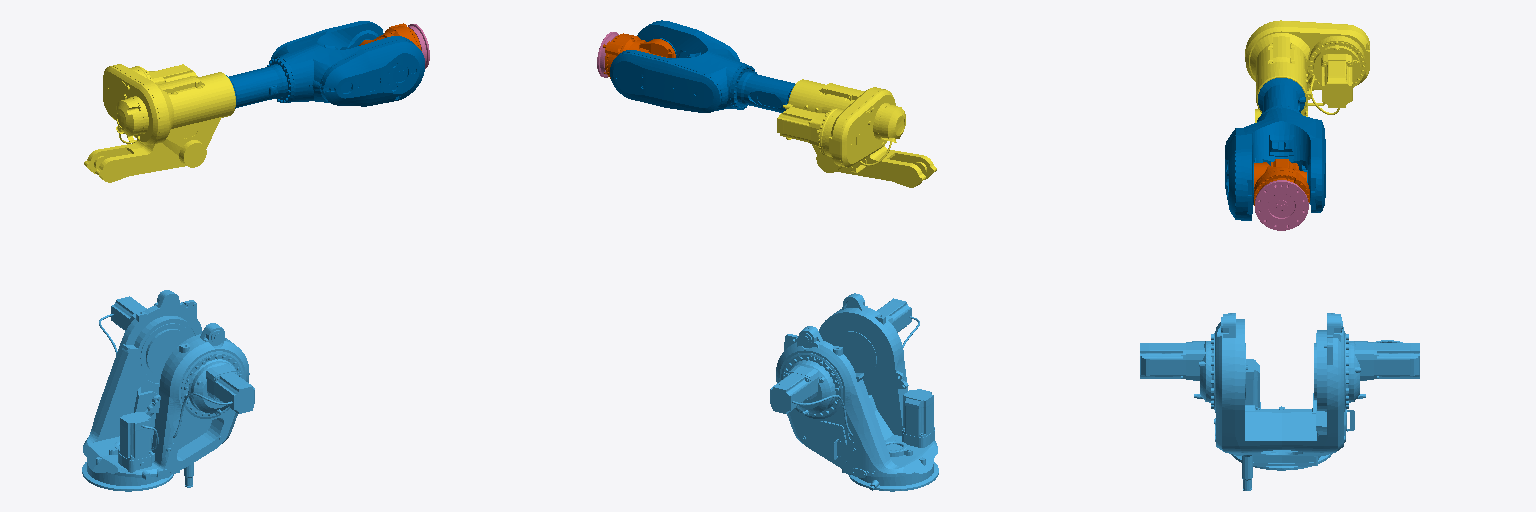
robot.urdf — IRB8700_800_350:
<?xml version="1.0" ?>
<robot name="IRB8700_800_350">

<link name="base_link">
  <inertial>
    <origin xyz="-0.08037184969585716 0.0006300808261457967 0.15332267644640482" rpy="0 0 0"/>
    <mass value="1505.6521038393914"/>
    <inertia ixx="76.523178" iyy="124.443069" izz="174.383681" ixy="0.159184" iyz="-0.066316" ixz="-5.164151"/>
  </inertial>
  <visual>
    <origin xyz="0 0 0" rpy="0 0 0"/>
    <geometry>
      <mesh filename="meshes/base_link.stl" scale="0.001 0.001 0.001"/>
    </geometry>
  </visual>
  <collision>
    <origin xyz="0 0 0" rpy="0 0 0"/>
    <geometry>
      <mesh filename="meshes/base_link.stl" scale="0.001 0.001 0.001"/>
    </geometry>
  </collision>
</link>

<link name="link_1">
  <inertial>
    <origin xyz="0.30364505280838955 -0.0018357799370513142 0.5157165485900264" rpy="0 0 0"/>
    <mass value="1785.9186850506833"/>
    <inertia ixx="319.960777" iyy="204.24516" izz="276.794643" ixy="0.482677" iyz="6.821785" ixz="-58.562622"/>
  </inertial>
  <visual>
    <origin xyz="0.0 -0.0 -0.300337" rpy="0 0 0"/>
    <geometry>
      <mesh filename="meshes/link_1.stl" scale="0.001 0.001 0.001"/>
    </geometry>
  </visual>
  <collision>
    <origin xyz="0.0 -0.0 -0.300337" rpy="0 0 0"/>
    <geometry>
      <mesh filename="meshes/link_1.stl" scale="0.001 0.001 0.001"/>
    </geometry>
  </collision>
</link>

<link name="link_2">
  <inertial>
    <origin xyz="0.1193738222891802 0.2222896100229376 0.7303852208694914" rpy="0 0 0"/>
    <mass value="1443.4541146557397"/>
    <inertia ixx="283.515678" iyy="273.52004" izz="40.693426" ixy="0.50972" iyz="10.053071" ixz="15.357031"/>
  </inertial>
  <visual>
    <origin xyz="-0.42 0.21 -1.0" rpy="0 0 0"/>
    <geometry>
      <mesh filename="meshes/link_2.stl" scale="0.001 0.001 0.001"/>
    </geometry>
  </visual>
  <collision>
    <origin xyz="-0.42 0.21 -1.0" rpy="0 0 0"/>
    <geometry>
      <mesh filename="meshes/link_2.stl" scale="0.001 0.001 0.001"/>
    </geometry>
  </collision>
</link>

<link name="link_3">
  <inertial>
    <origin xyz="-0.13074491407877226 0.4619189297387206 0.23397324999694247" rpy="0 0 0"/>
    <mass value="867.5203145831158"/>
    <inertia ixx="45.096822" iyy="53.006314" izz="58.494954" ixy="1.118886" iyz="-6.435807" ixz="-1.22999"/>
  </inertial>
  <visual>
    <origin xyz="-0.42 0.363 -2.58" rpy="0 0 0"/>
    <geometry>
      <mesh filename="meshes/link_3.stl" scale="0.001 0.001 0.001"/>
    </geometry>
  </visual>
  <collision>
    <origin xyz="-0.42 0.363 -2.58" rpy="0 0 0"/>
    <geometry>
      <mesh filename="meshes/link_3.stl" scale="0.001 0.001 0.001"/>
    </geometry>
  </collision>
</link>

<link name="link_4">
  <inertial>
    <origin xyz="0.6024871706759326 -0.030081371080166425 2.0651999724119463e-05" rpy="0 0 0"/>
    <mass value="1084.7317720031733"/>
    <inertia ixx="34.925547" iyy="224.146495" izz="243.096935" ixy="14.706004" iyz="0.004918" ixz="-0.010022"/>
  </inertial>
  <visual>
    <origin xyz="-0.764558 0.0 -2.89" rpy="0 0 0"/>
    <geometry>
      <mesh filename="meshes/link_4.stl" scale="0.001 0.001 0.001"/>
    </geometry>
  </visual>
  <collision>
    <origin xyz="-0.764558 0.0 -2.89" rpy="0 0 0"/>
    <geometry>
      <mesh filename="meshes/link_4.stl" scale="0.001 0.001 0.001"/>
    </geometry>
  </collision>
</link>

<link name="link_5">
  <inertial>
    <origin xyz="0.08768857349934933 -0.15923059324200087 -0.0001545447063584504" rpy="0 0 0"/>
    <mass value="180.47343892140714"/>
    <inertia ixx="2.06276" iyy="3.365394" izz="3.78417" ixy="-0.149244" iyz="-0.018887" ixz="-0.021198"/>
  </inertial>
  <visual>
    <origin xyz="-1.895 -0.150019 -2.890533" rpy="0 0 0"/>
    <geometry>
      <mesh filename="meshes/link_5.stl" scale="0.001 0.001 0.001"/>
    </geometry>
  </visual>
  <collision>
    <origin xyz="-1.895 -0.150019 -2.890533" rpy="0 0 0"/>
    <geometry>
      <mesh filename="meshes/link_5.stl" scale="0.001 0.001 0.001"/>
    </geometry>
  </collision>
</link>

<link name="link_6">
  <inertial>
    <origin xyz="0.024033135358549007 -9.416771800048662e-07 -8.023741163132314e-05" rpy="0 0 0"/>
    <mass value="24.42929785915679"/>
    <inertia ixx="0.284639" iyy="0.147061" izz="0.147308" ixy="-0.0" iyz="-2e-06" ixz="3.4e-05"/>
  </inertial>
  <visual>
    <origin xyz="-2.1555 -0.0 -2.89" rpy="0 0 0"/>
    <geometry>
      <mesh filename="meshes/flange.stl" scale="0.001 0.001 0.001"/>
    </geometry>
  </visual>
  <collision>
    <origin xyz="-2.1555 -0.0 -2.89" rpy="0 0 0"/>
    <geometry>
      <mesh filename="meshes/flange.stl" scale="0.001 0.001 0.001"/>
    </geometry>
  </collision>
</link>

<link name="flange">
  <inertial>
    <origin xyz="0 0 0" rpy="0 0 0"/>
    <mass value="0.1"/>
    <inertia ixx="0.0001" iyy="0.0001" izz="0.0001" ixy="0" iyz="0" ixz="0"/>
  </inertial>
</link>

<link name="tool0">
  <inertial>
    <origin xyz="0 0 0" rpy="0 0 0"/>
    <mass value="0.01"/>
    <inertia ixx="0.00001" iyy="0.00001" izz="0.00001" ixy="0" iyz="0" ixz="0"/>
  </inertial>
</link>


<joint name="joint_1" type="continuous">
  <origin xyz="0.0 0.0 0.300337" rpy="0 0 0"/>
  <parent link="base_link"/>
  <child link="link_1"/>
  <axis xyz="0.0 -0.0 -1.0"/>
</joint>

<joint name="joint_2" type="continuous">
  <origin xyz="0.42 -0.21 0.699663" rpy="0 0 0"/>
  <parent link="link_1"/>
  <child link="link_2"/>
  <axis xyz="0.0 -1.0 0.0"/>
</joint>

<joint name="joint_3" type="continuous">
  <origin xyz="0.0 -0.153 1.58" rpy="0 0 0"/>
  <parent link="link_2"/>
  <child link="link_3"/>
  <axis xyz="0.0 -1.0 0.0"/>
</joint>

<joint name="joint_4" type="continuous">
  <origin xyz="0.344558 0.363 0.31" rpy="0 0 0"/>
  <parent link="link_3"/>
  <child link="link_4"/>
  <axis xyz="-1.0 0.0 0.0"/>
</joint>

<joint name="joint_5" type="continuous">
  <origin xyz="1.130442 0.150019 0.000533" rpy="0 0 0"/>
  <parent link="link_4"/>
  <child link="link_5"/>
  <axis xyz="0.0 -0.999391 0.034899"/>
</joint>

<joint name="joint_6" type="continuous">
  <origin xyz="0.2605 -0.150019 -0.000533" rpy="0 0 0"/>
  <parent link="link_5"/>
  <child link="link_6"/>
  <axis xyz="1.0 0.0 -0.0"/>
</joint>

<joint name="joint_flange" type="fixed">
  <origin xyz="0 0 0" rpy="0 1.57 0"/>
  <parent link="link_6"/>
  <child link="flange"/>
</joint>

<joint name="joint_tool0" type="fixed">
  <origin xyz="0 0 0" rpy="0 0 0"/>
  <parent link="flange"/>
  <child link="tool0"/>
</joint>

</robot>

--- Render facts (derived) ---
Views: 3 orthographic renders of the robot side by side, from view 1: azimuth 30°, elevation 25°; view 2: azimuth 150°, elevation 25°; view 3: azimuth 270°, elevation 25°.
Robot: IRB8700_800_350 — 9 links, 8 joints (6 continuous, 2 fixed); root link base_link; default pose: all joints at 0.
Links seen in each view (by area): view 1: link_1, link_3, link_4; view 2: link_1, link_4, link_3, link_5; view 3: link_1, link_3, link_4, link_6, link_5.
Boxes of the visible links, x1,y1,x2,y2 form: link_1: (82,290,254,491); link_3: (84,64,235,182); link_4: (226,21,424,108); link_1: (770,293,938,491); link_4: (610,20,794,112); link_3: (777,79,936,187); link_5: (603,33,675,78); link_1: (1140,313,1419,490); link_3: (1245,20,1369,122); link_4: (1225,78,1325,220); link_6: (1255,180,1308,230); link_5: (1254,159,1309,205).
Bounding box of the posed robot: 2.51 × 1.62 × 2.9 m (x, y, z).
5 mesh visuals loaded from 7 distinct referenced files (5 binary STL); not drawn: 2 (reference not matched to a file when rendering).